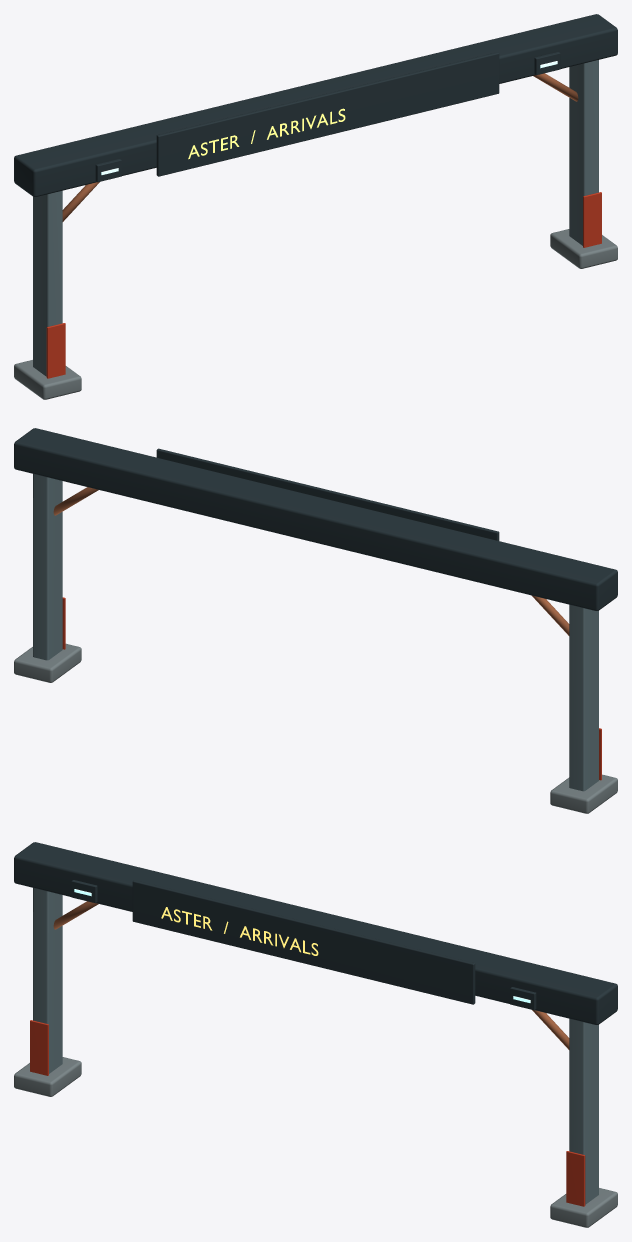
File: transit_gantry.glb
3 renders of one model, top to bottom at view 1: azimuth 30°, elevation 25°; view 2: azimuth 150°, elevation 25°; view 3: azimuth 330°, elevation 25°, orthographic.
Visible parts, largest first — view 1: transit_gantry; view 2: transit_gantry; view 3: transit_gantry.
Boxes of the visible parts, x1,y1,x2,y2 form: transit_gantry: (14, 14, 617, 399); transit_gantry: (14, 428, 617, 813); transit_gantry: (14, 842, 617, 1227).
Bounding box in the file's own units: 24 × 9.2 × 2.2.
